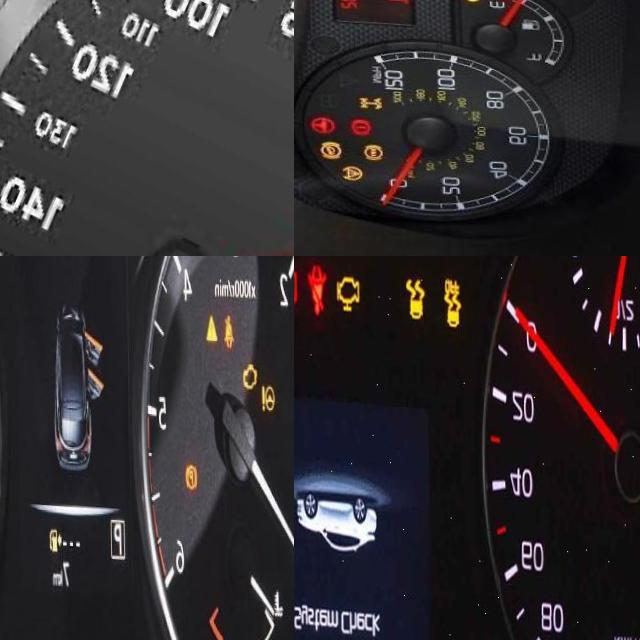Electronic Power Steering: (260, 376, 281, 407)
Seat Belt: (305, 260, 331, 313), (221, 305, 236, 343)
